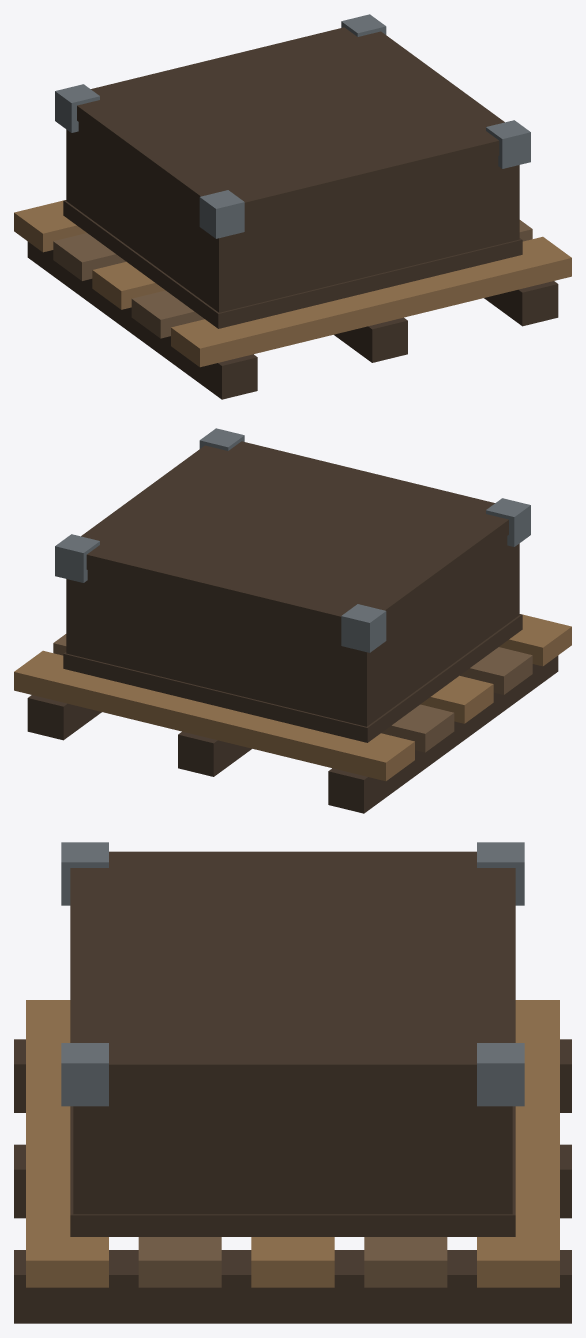
The model's file is roof_step_crate.glb.
3 views of the same model, one above another, from view 1: azimuth 30°, elevation 25°; view 2: azimuth 150°, elevation 25°; view 3: azimuth 270°, elevation 25° (orthographic). The views are drawn at different scales.
Parts seen in each view (by area): view 1: roof_step_crate; view 2: roof_step_crate; view 3: roof_step_crate.
Boxes of the visible parts, x1,y1,x2,y2 form: roof_step_crate: [14, 14, 571, 399]; roof_step_crate: [14, 428, 571, 813]; roof_step_crate: [14, 842, 571, 1323].
Size of what is drawn, in the model's own units: 1.04 by 0.47 by 0.94.
1 material, 1 textured.
